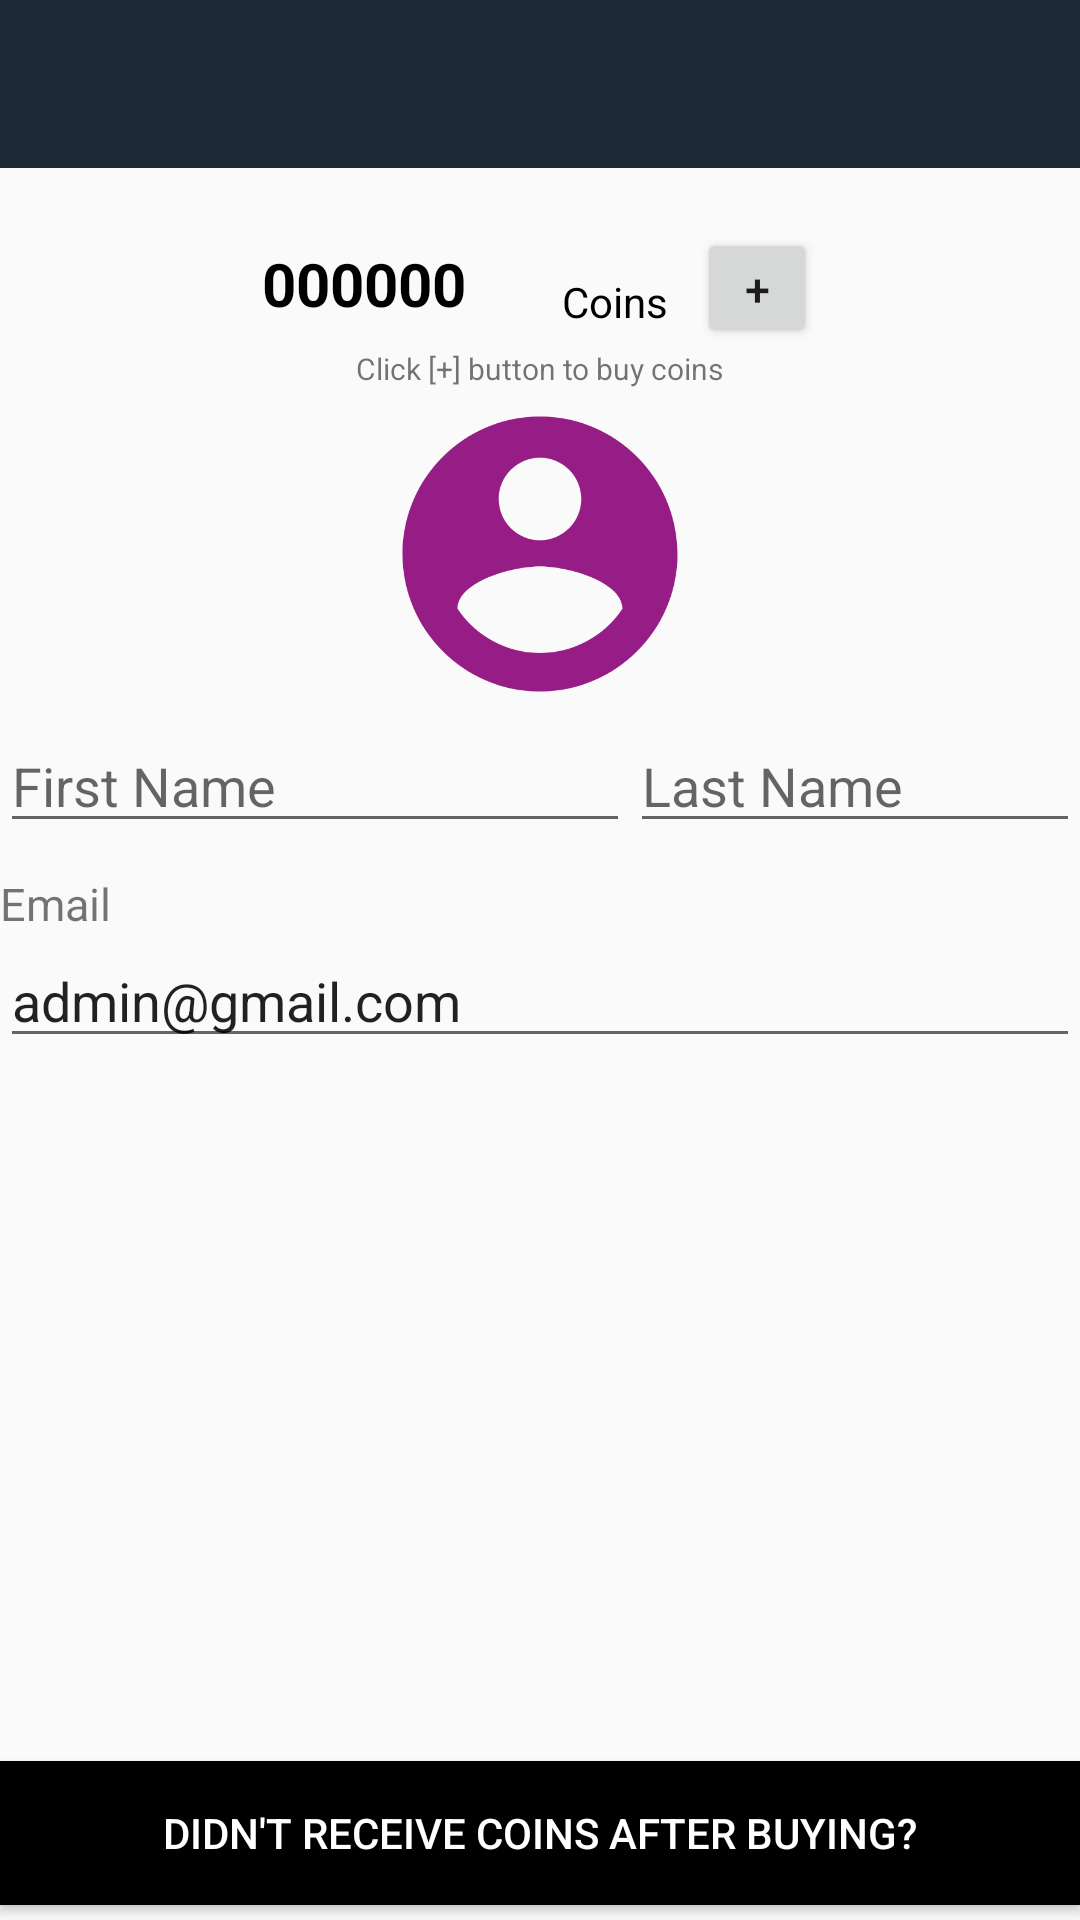

Where icons sit on this 1080 × 1920 app screen, as (x1=x1, y1=y1, x2=x2, y2=y2):
account circle: (x1=402, y1=416, x2=678, y2=692)
